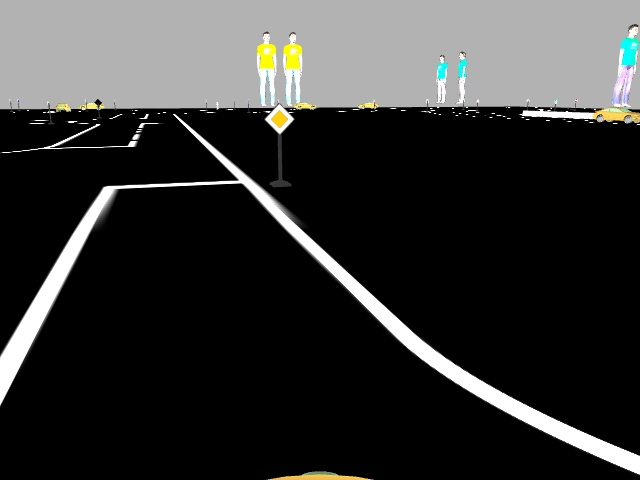Priority: (266, 102, 293, 132)
